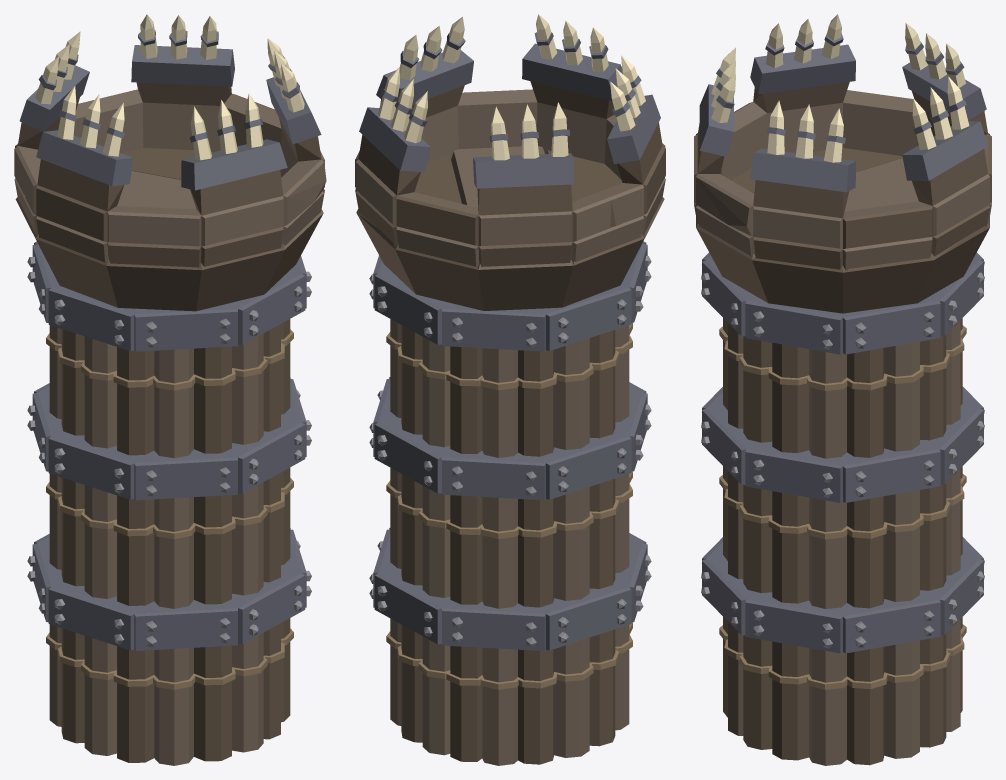
The model's file is TOWER_4_FULL.fbx.
3 renders of one model, left to right at view 1: azimuth 30°, elevation 25°; view 2: azimuth 150°, elevation 25°; view 3: azimuth 270°, elevation 25°, orthographic.
Parts seen in each view (by area): view 1: TOWER_4_UP_01, TOWER_4_OSNOVA_01, TOWER_4_OSNOVA_02, TOWER_4_OSNOVA_03; view 2: TOWER_4_UP_01, TOWER_4_OSNOVA_01, TOWER_4_OSNOVA_02, TOWER_4_OSNOVA_03; view 3: TOWER_4_UP_01, TOWER_4_OSNOVA_01, TOWER_4_OSNOVA_02, TOWER_4_OSNOVA_03.
Part boxes in pixels (x1=…): TOWER_4_UP_01: x1=14, y1=14, x2=326, y2=311; TOWER_4_OSNOVA_01: x1=27, y1=528, x2=311, y2=765; TOWER_4_OSNOVA_02: x1=27, y1=377, x2=311, y2=608; TOWER_4_OSNOVA_03: x1=27, y1=241, x2=311, y2=458; TOWER_4_UP_01: x1=355, y1=14, x2=665, y2=310; TOWER_4_OSNOVA_01: x1=369, y1=528, x2=651, y2=765; TOWER_4_OSNOVA_02: x1=369, y1=377, x2=651, y2=608; TOWER_4_OSNOVA_03: x1=369, y1=241, x2=651, y2=457; TOWER_4_UP_01: x1=694, y1=14, x2=991, y2=313; TOWER_4_OSNOVA_01: x1=701, y1=537, x2=984, y2=765; TOWER_4_OSNOVA_02: x1=701, y1=386, x2=984, y2=608; TOWER_4_OSNOVA_03: x1=701, y1=252, x2=984, y2=458.
Bounding box in the file's own units: 567 × 1316 × 543.
